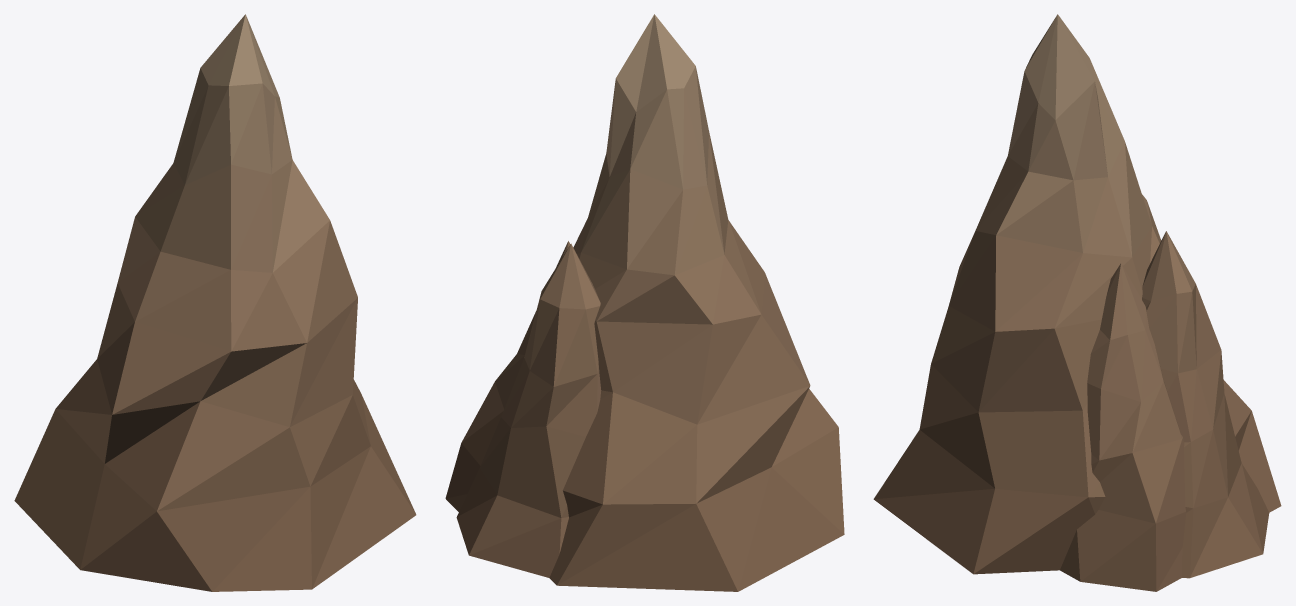
File: Mountain_B.glb
3 views of the same model, side by side, from view 1: azimuth 30°, elevation 25°; view 2: azimuth 150°, elevation 25°; view 3: azimuth 270°, elevation 25° (orthographic). The views are drawn at different scales.
Visible parts, largest first — view 1: Mountain_B; view 2: Mountain_B; view 3: Mountain_B.
Boxes of the visible parts, x1,y1,x2,y2 form: Mountain_B: [14, 14, 416, 591]; Mountain_B: [445, 14, 844, 591]; Mountain_B: [873, 14, 1281, 591].
Size of the model in its own units: 232 by 322 by 239.
